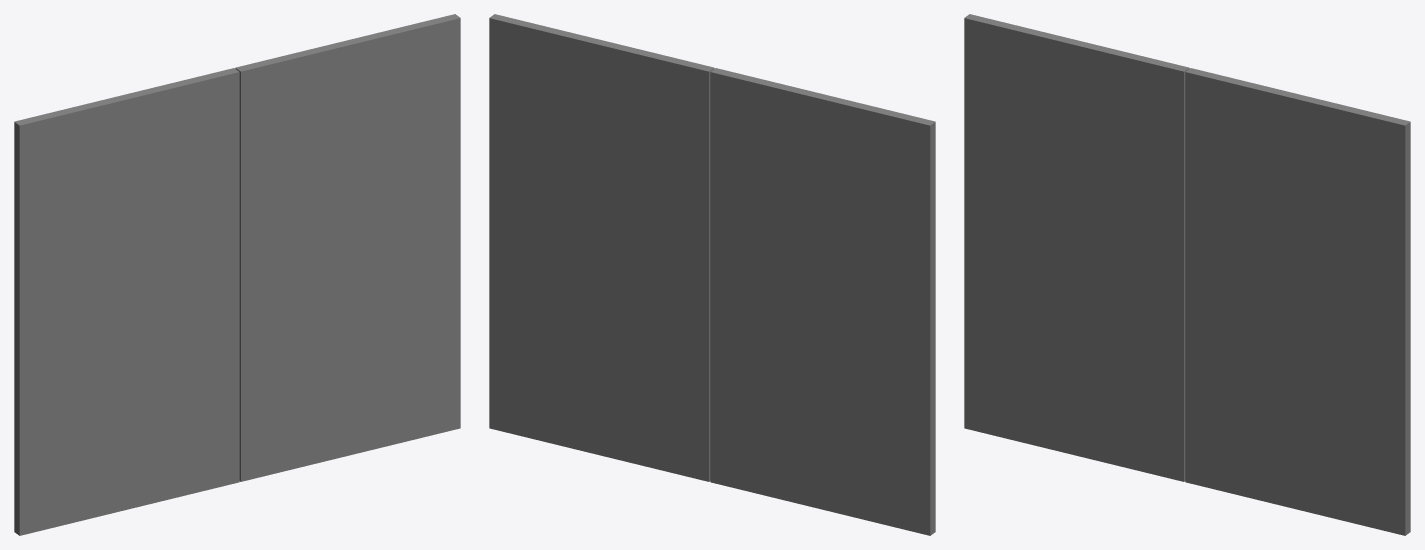
Rendered from LiftDoorsModel.fbx.
The picture shows the model from 3 angles, left to right: view 1: azimuth 30°, elevation 25°; view 2: azimuth 150°, elevation 25°; view 3: azimuth 330°, elevation 25°; orthographic projection.
Parts seen in each view (by area): view 1: LiftDoorRight, LiftDoorLeft; view 2: LiftDoorRight, LiftDoorLeft; view 3: LiftDoorLeft, LiftDoorRight.
Boxes of the visible parts, x1=… form: LiftDoorRight: x1=14, y1=68, x2=239, y2=535; LiftDoorLeft: x1=235, y1=14, x2=460, y2=481; LiftDoorRight: x1=710, y1=68, x2=935, y2=535; LiftDoorLeft: x1=489, y1=14, x2=714, y2=481; LiftDoorLeft: x1=1185, y1=68, x2=1410, y2=535; LiftDoorRight: x1=964, y1=14, x2=1189, y2=481.
Size of the model in its own units: 261 by 232 by 5.67.
